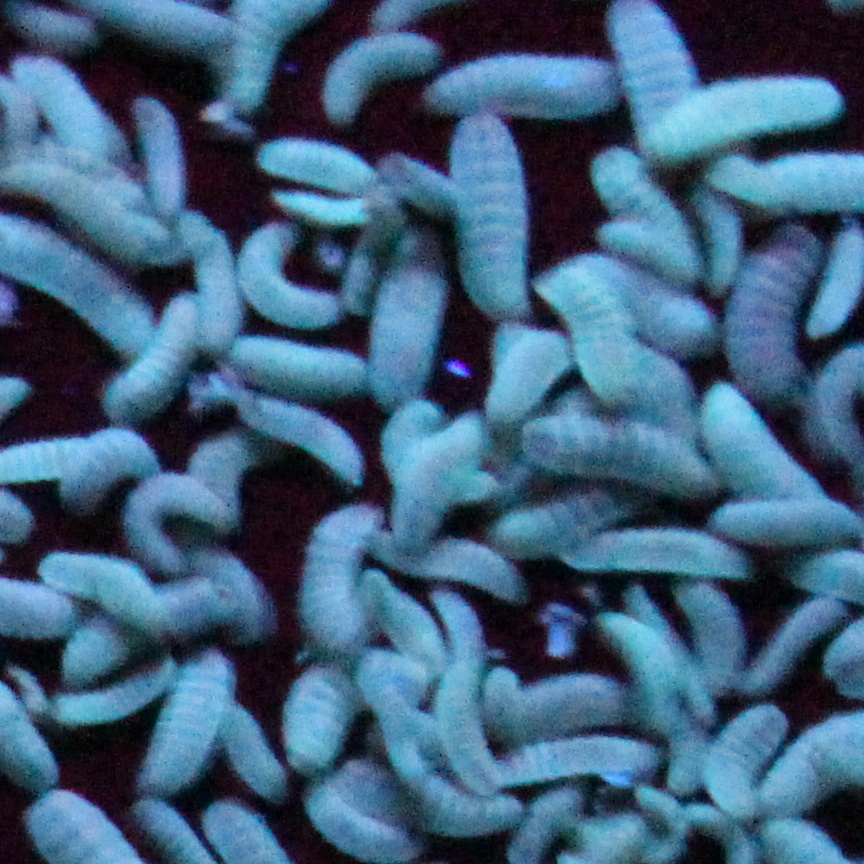larve: (0, 160, 173, 263), (459, 115, 542, 329), (367, 222, 461, 406), (521, 410, 723, 493), (721, 236, 821, 401), (536, 268, 655, 406), (652, 75, 842, 158), (705, 384, 828, 506), (92, 291, 205, 420), (428, 50, 623, 120), (11, 51, 131, 163), (45, 548, 185, 643), (138, 650, 229, 791), (400, 410, 493, 546), (238, 217, 347, 325), (366, 527, 523, 600), (235, 394, 362, 484), (595, 610, 685, 736), (736, 594, 845, 698), (297, 506, 373, 648), (126, 474, 233, 570), (59, 425, 166, 512), (226, 334, 369, 398), (557, 529, 754, 575), (331, 32, 429, 122), (445, 662, 505, 801), (283, 660, 352, 772), (500, 737, 664, 784), (716, 705, 786, 815), (502, 675, 638, 731), (133, 91, 192, 220), (485, 339, 567, 418), (716, 505, 864, 546), (604, 222, 704, 281), (266, 139, 378, 191)
